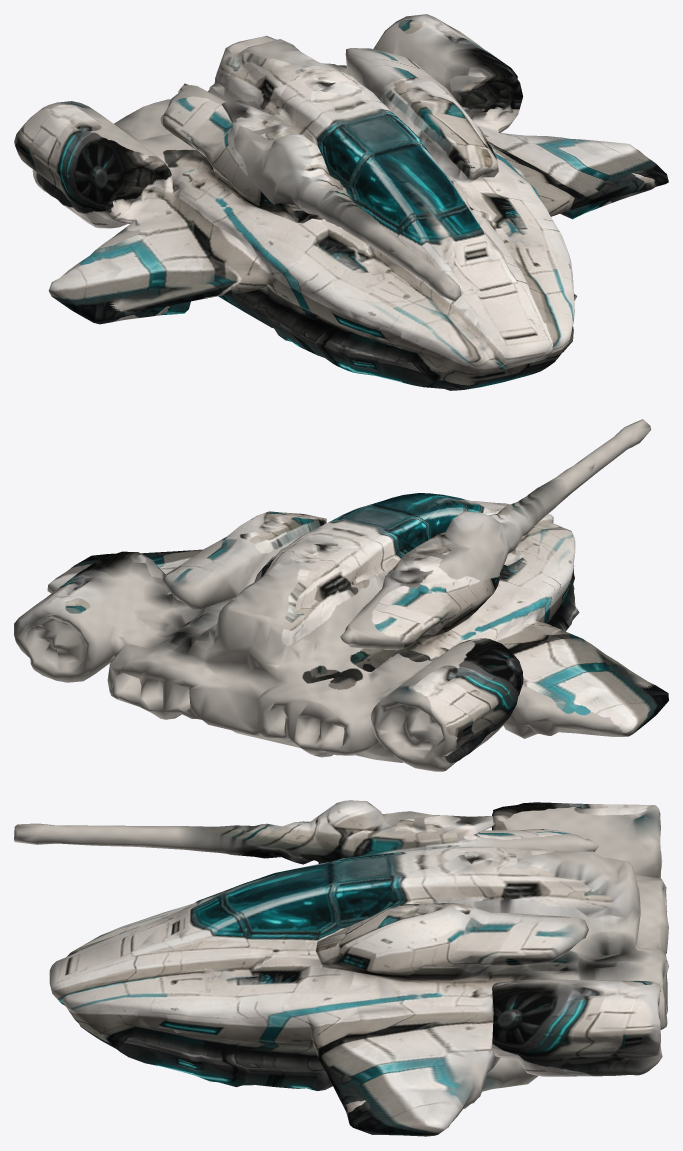
The model's file is shamal_lod1.glb.
3 views of the same model, one above another, from view 1: azimuth 30°, elevation 25°; view 2: azimuth 150°, elevation 25°; view 3: azimuth 270°, elevation 25° (orthographic). The views are drawn at different scales.
Visible parts, largest first — view 1: geometry_0; view 2: geometry_0; view 3: geometry_0.
Boxes of the visible parts, bbox=[...] form: geometry_0: bbox=[14, 14, 668, 390]; geometry_0: bbox=[14, 419, 668, 771]; geometry_0: bbox=[14, 800, 668, 1136].
Bounding box in the file's own units: 2 × 0.6454 × 1.9.
Materials: 1 (1 with a texture image).
